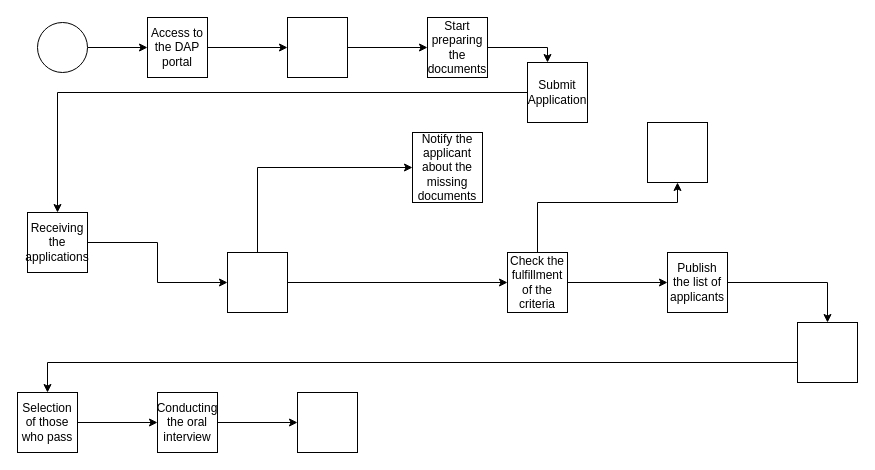
The diagram is 875 pixels wide and 470 high, and some of its shapes have lost their labels. Here are the shapes that lost their labels. From the top down, the centre of each, then its label:
the point at 317,47: Selection of the position
the point at 677,152: Notify the applicant of their rejection
the point at 257,282: Check the applicants' documents
the point at 827,352: Conducting the written exam
the point at 327,422: Selection of the winners
